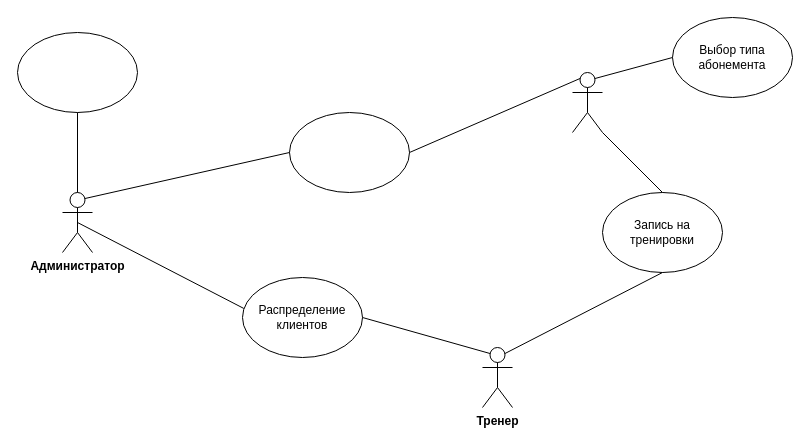
This 810x446 diagram has some shape labels left out. The box of each missing label's shape, as (x1, y1, x2, y2) in pixels:
выгрузить расписание (зала, тренировок, тренеров): (16, 32, 138, 112)
Клиент: (572, 72, 602, 132)
Покупка абонемента: (288, 112, 410, 192)
